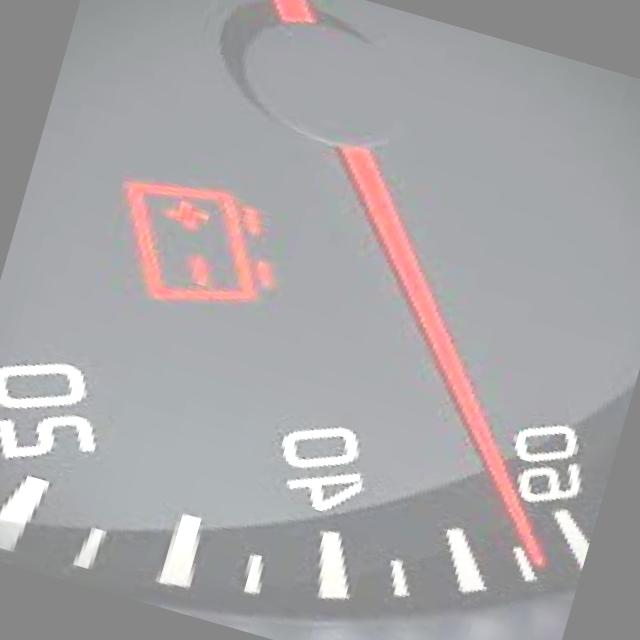kontrolka: (78, 148, 318, 344)
